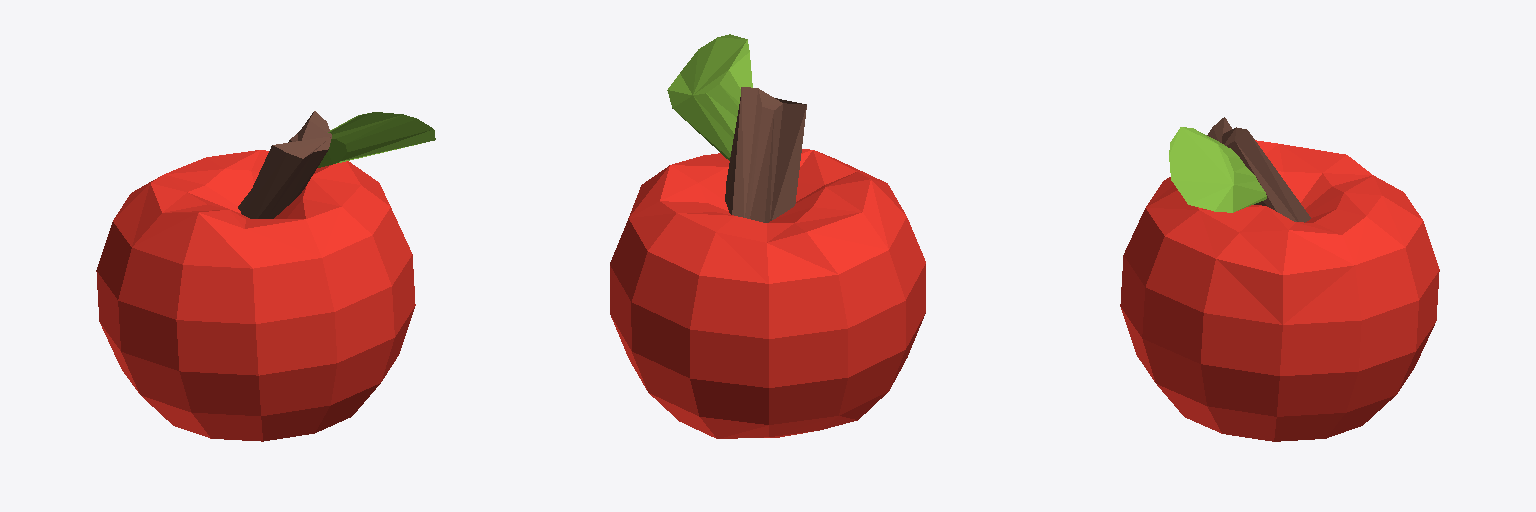
3 renders of one model, left to right at view 1: azimuth 30°, elevation 25°; view 2: azimuth 150°, elevation 25°; view 3: azimuth 270°, elevation 25°, orthographic.
Parts seen in each view (by area): view 1: group[number redacted], group[number redacted], group[number redacted]; view 2: group[number redacted], group[number redacted], group[number redacted]; view 3: group[number redacted], group[number redacted], group[number redacted].
Boxes of the visible parts, x1,y1,x2,y2 form: group[number redacted]: [96, 150, 415, 441]; group[number redacted]: [238, 111, 331, 218]; group[number redacted]: [318, 112, 435, 167]; group[number redacted]: [610, 149, 925, 438]; group[number redacted]: [725, 87, 806, 222]; group[number redacted]: [667, 34, 752, 160]; group[number redacted]: [1120, 140, 1439, 441]; group[number redacted]: [1169, 127, 1266, 212]; group[number redacted]: [1207, 117, 1310, 222].
Size of the model in its own units: 0.8212 by 0.931 by 0.8241.